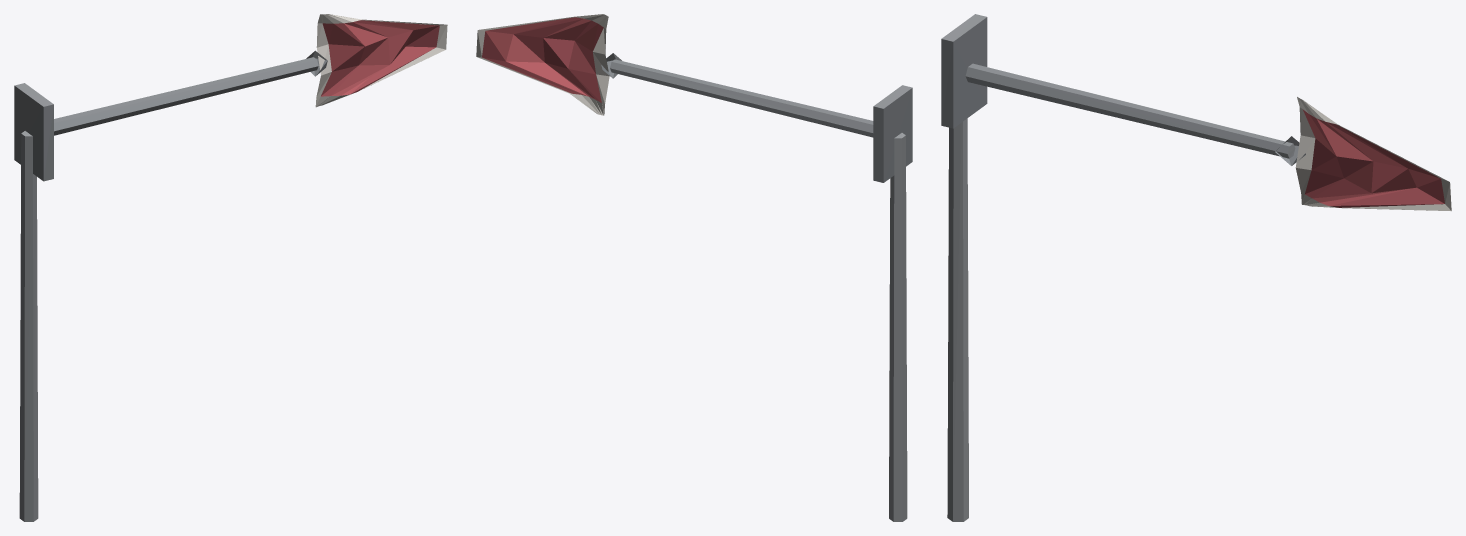
The model's file is flag.pennant.lingqi__pole.horizontal.big__armFly.glb.
3 renders of one model, left to right at view 1: azimuth 30°, elevation 25°; view 2: azimuth 150°, elevation 25°; view 3: azimuth 330°, elevation 25°, orthographic. The views are drawn at different scales.
Parts seen in each view (by area): view 1: flag.pennant.lingqi; view 2: flag.pennant.lingqi; view 3: flag.pennant.lingqi.
Part boxes in pixels (bbox=[...]): flag.pennant.lingqi: bbox=[14, 14, 447, 521]; flag.pennant.lingqi: bbox=[476, 14, 912, 521]; flag.pennant.lingqi: bbox=[941, 14, 1451, 521].
Size of the model in its own units: 3.72 by 3.6 by 0.44.
